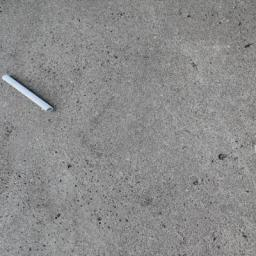FOD: (2, 71, 57, 116)
